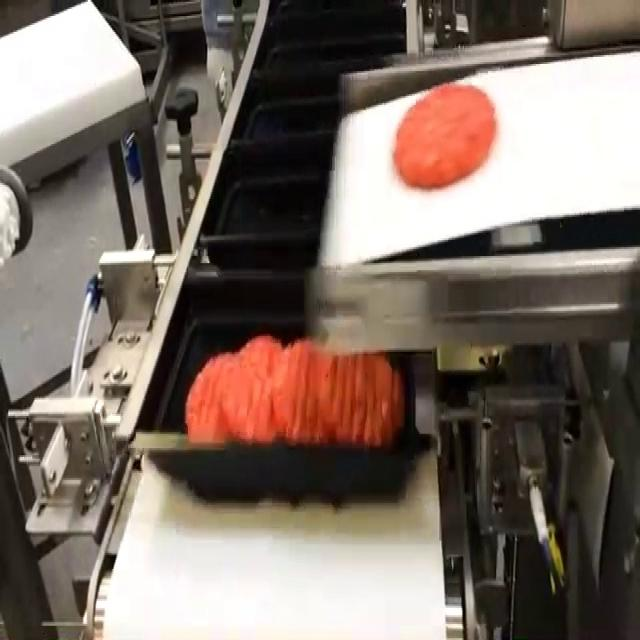4-hamburguer: (185, 336, 404, 446)
